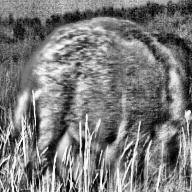boar: (20, 19, 192, 192)
